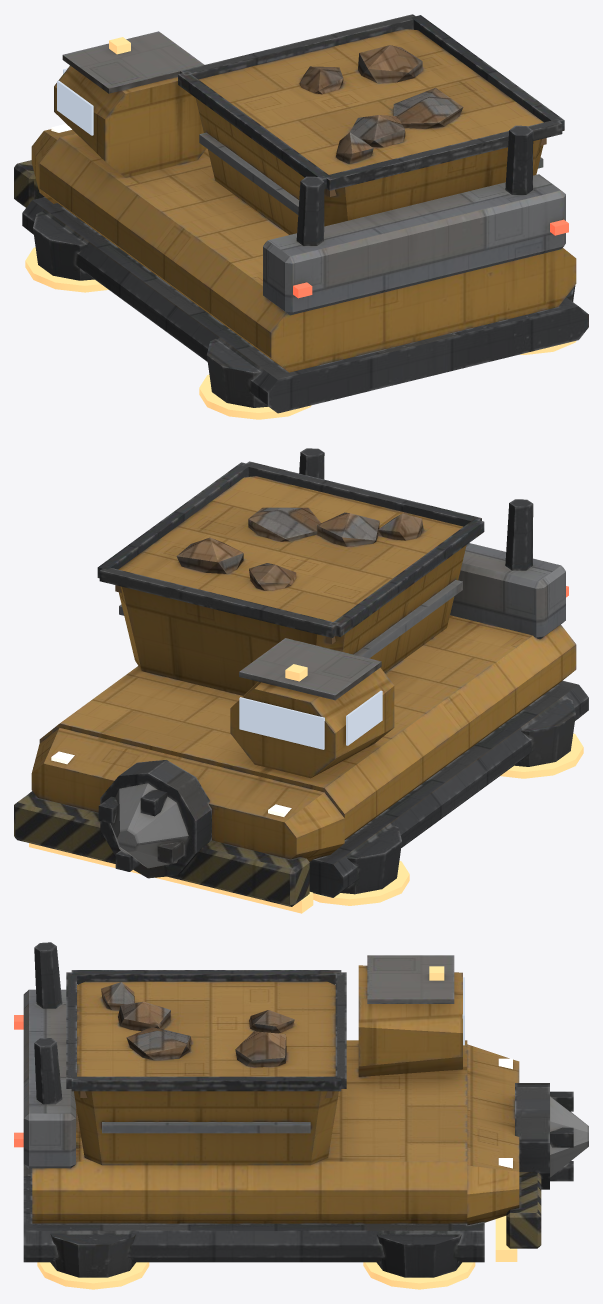
The model's file is harvester.glb.
3 renders of one model, top to bottom at view 1: azimuth 30°, elevation 25°; view 2: azimuth 150°, elevation 25°; view 3: azimuth 270°, elevation 25°, orthographic. The views are drawn at different scales.
Parts seen in each view (by area): view 1: harvester_hull, harvester_lights; view 2: harvester_hull, harvester_lights; view 3: harvester_hull, harvester_lights.
Part boxes in pixels (bbox=[...]): harvester_hull: bbox=[14, 14, 588, 413]; harvester_lights: bbox=[25, 37, 576, 419]; harvester_hull: bbox=[14, 448, 588, 906]; harvester_lights: bbox=[29, 586, 583, 913]; harvester_hull: bbox=[23, 942, 588, 1277]; harvester_lights: bbox=[14, 966, 517, 1289].
Bounding box in the file's own units: 9.18 × 5.44 × 13.22.
Materials: 5 (1 with a texture image).
